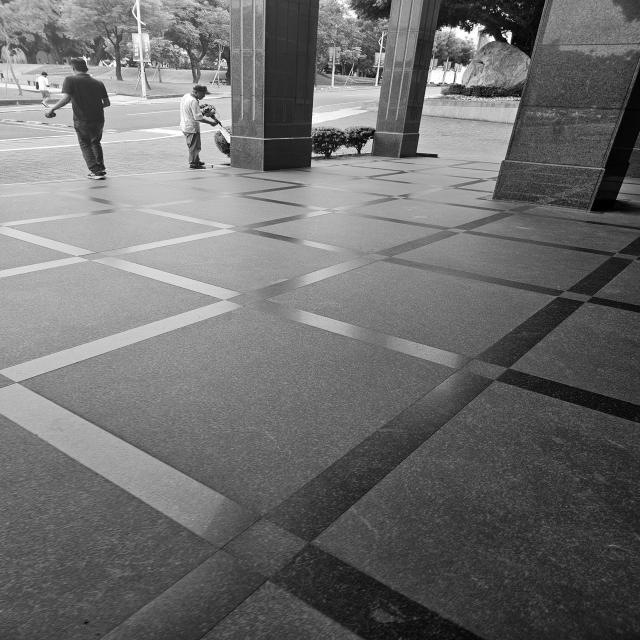Road-Object: (0, 160, 640, 640), (0, 105, 88, 184), (102, 97, 188, 177), (417, 116, 513, 162), (313, 88, 379, 128), (201, 125, 230, 167), (207, 96, 230, 125)
